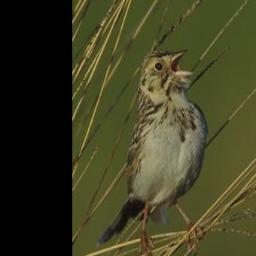Sparrow: (91, 44, 211, 256)
